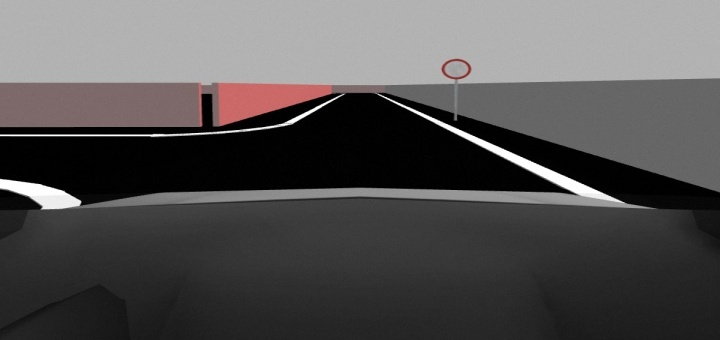girilmez: (440, 58, 474, 82)
